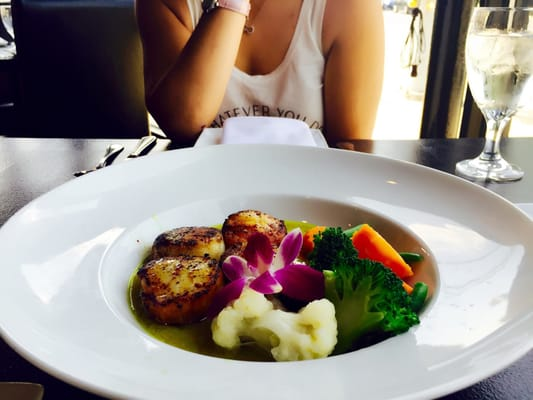curry: (307, 225, 424, 356)
